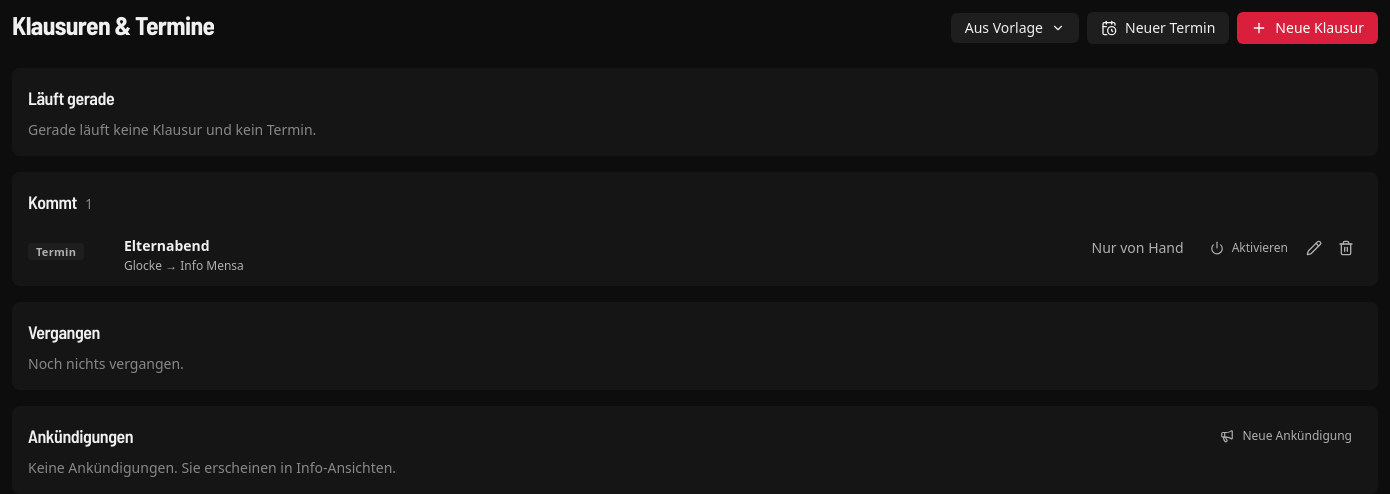
Test case: Exams: Termine von Hand › ein Termin ohne Zeitraum steht unter "Kommt" und lässt sich aktivieren
This screenshot has width=1390, height=494.
Expected: the element that starts with "Kommt" shows "Nur von Hand", [1092,238,1184,257]
Click the button "Aktivieren" at (1249, 248), box [1200,235,1298,261]
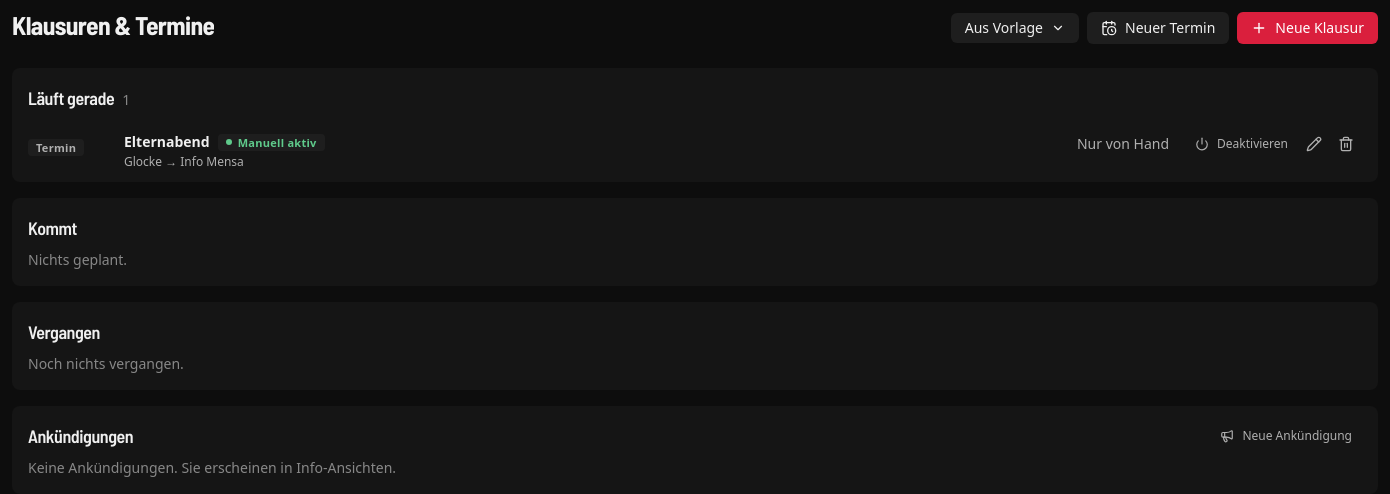
Expected: the button "Deaktivieren" is shown, [1185,131,1298,157]
Expected: the element that starts with "Läuft gerade" shows "Manuell aktiv", [238,134,317,150]
